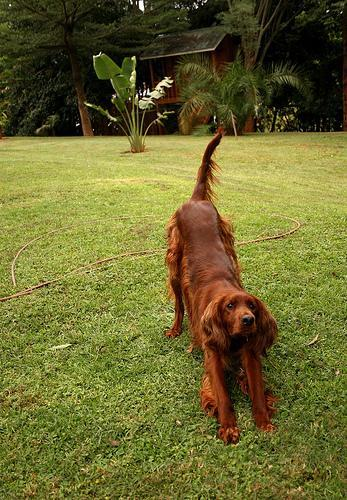Irish_setter: (165, 121, 283, 443)
